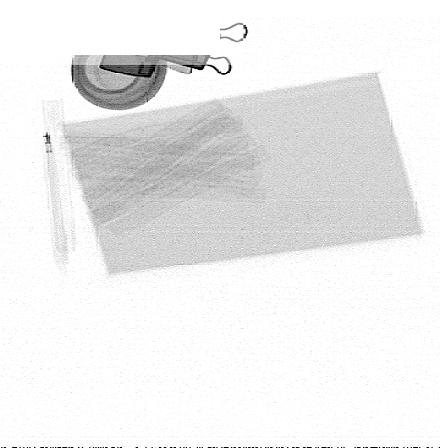Lighter: (98, 32, 213, 79)
